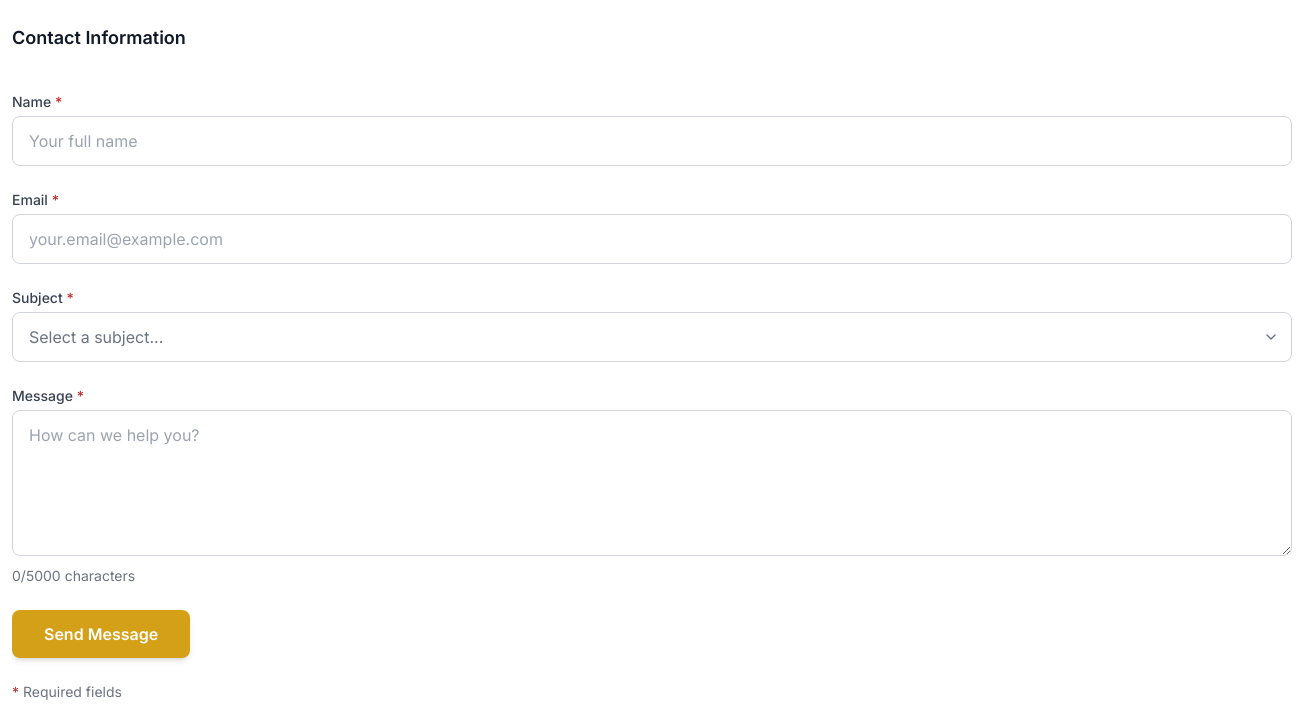
Test case: Contact Page › Client-Side Validation › validates email format
This screenshot has width=1304, height=708.
# Enter invalid email
Type "invalid-email" into the field labelled "Email *" at (652, 239), box [12, 214, 1292, 264]
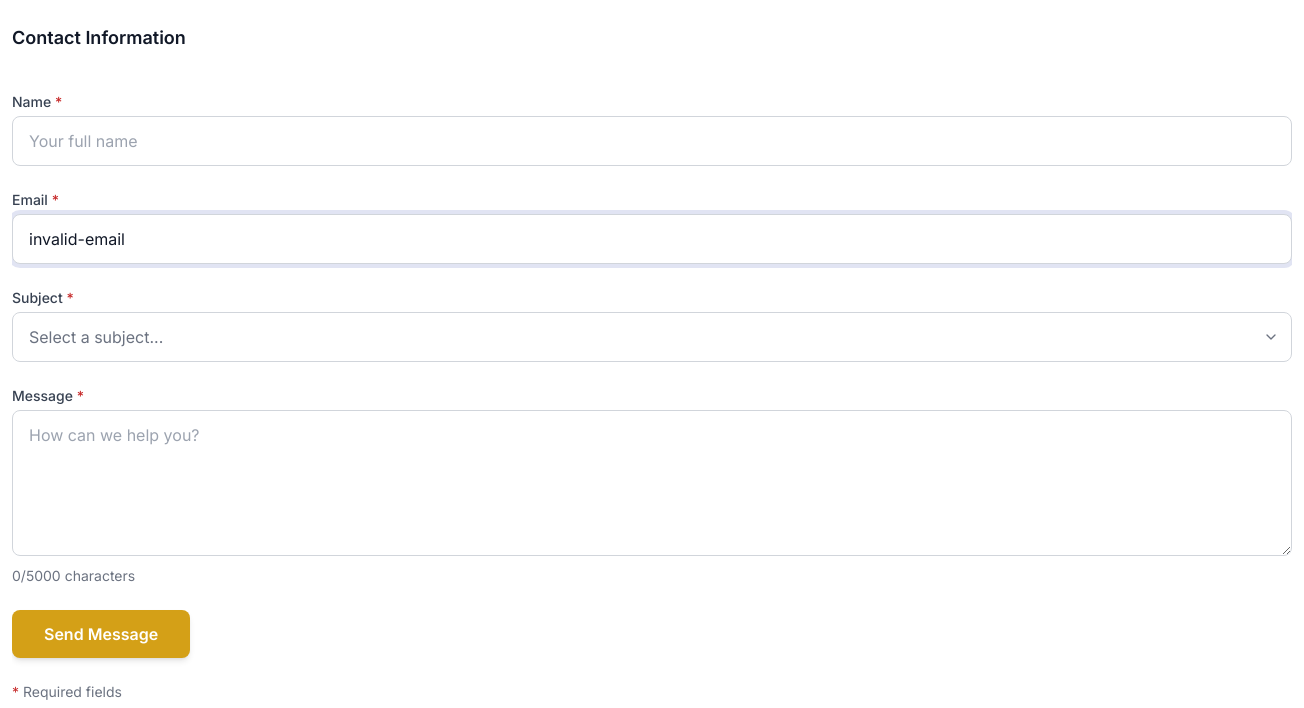
Press Tab
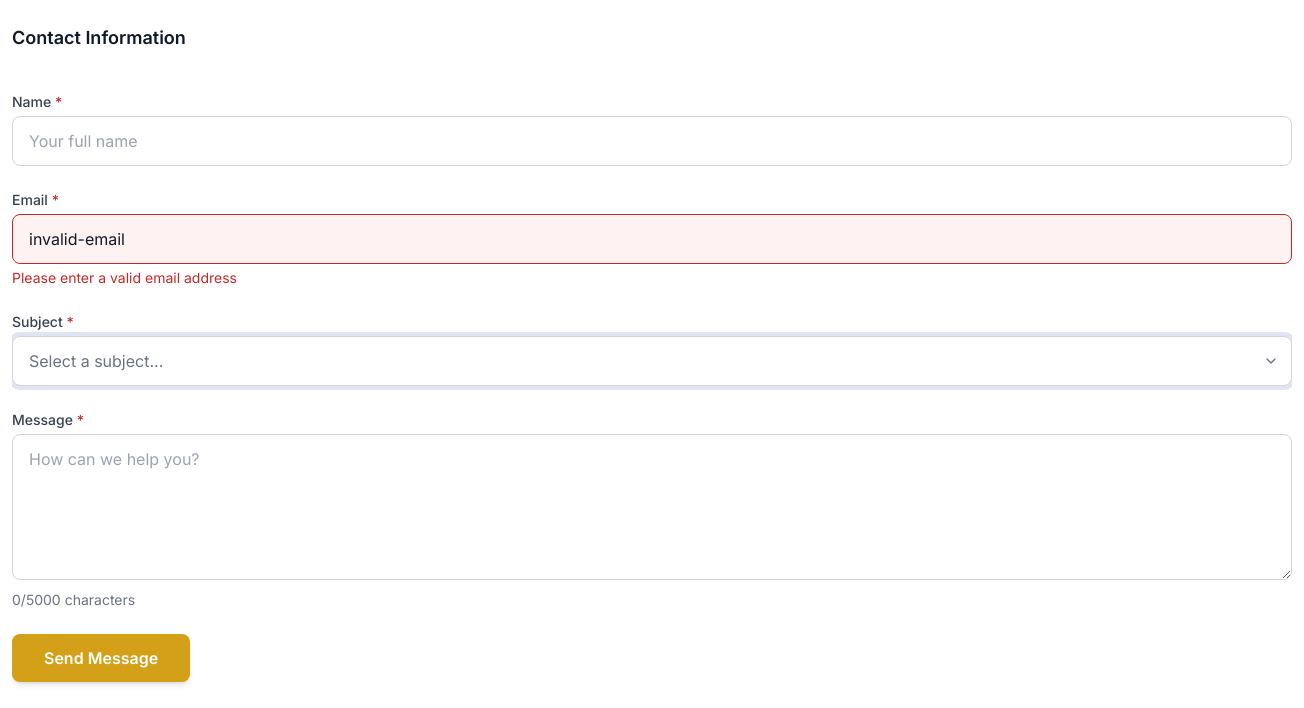
Result: the text "Please enter a valid email address" is shown at [12, 269, 237, 286]
